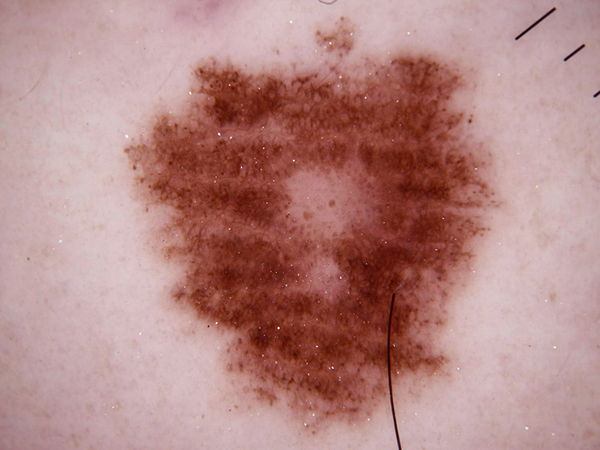Detected Lesion: (125, 45, 509, 429)
